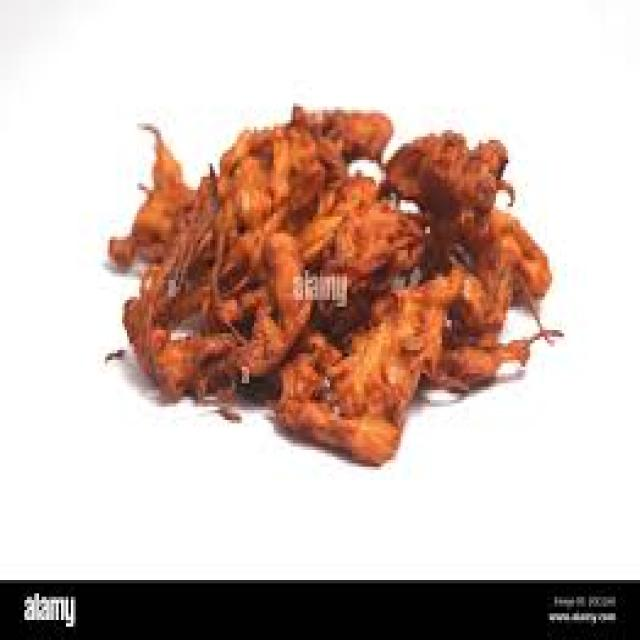BAJI: (107, 102, 563, 474)
